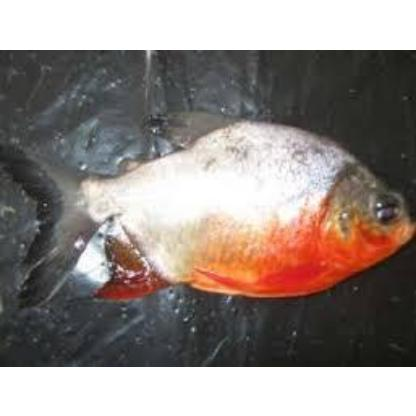ikan-pacu: (15, 116, 416, 308)
